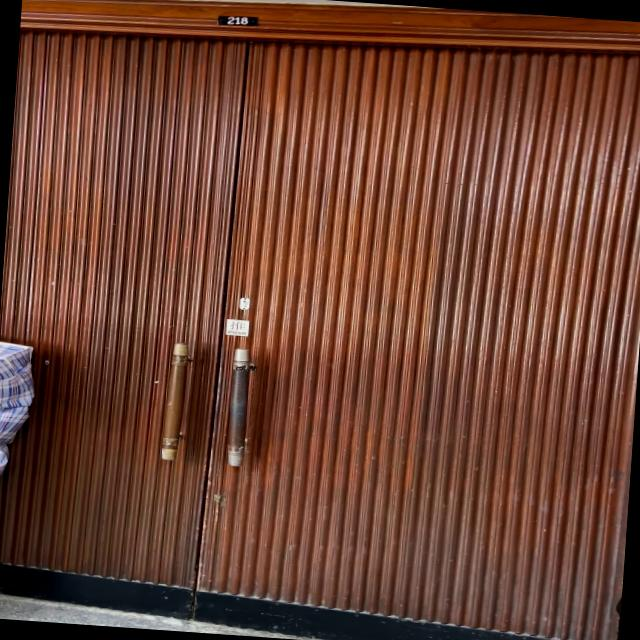room218: (212, 11, 262, 28)
